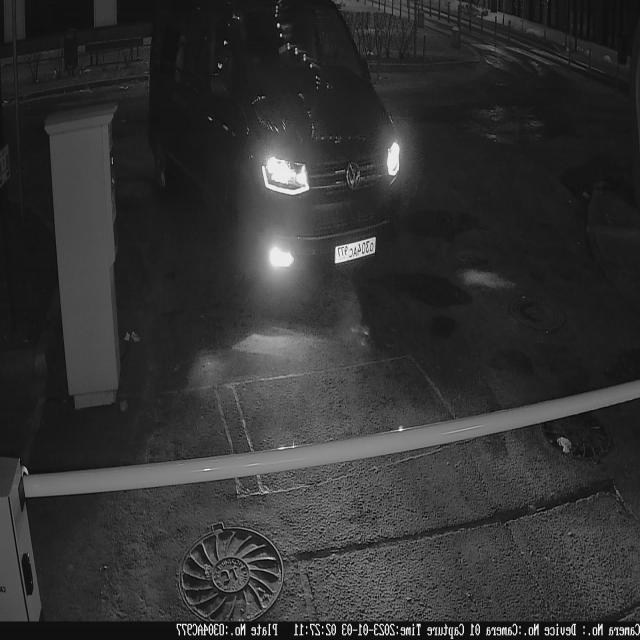car-plate-numbers: (333, 230, 381, 269)
